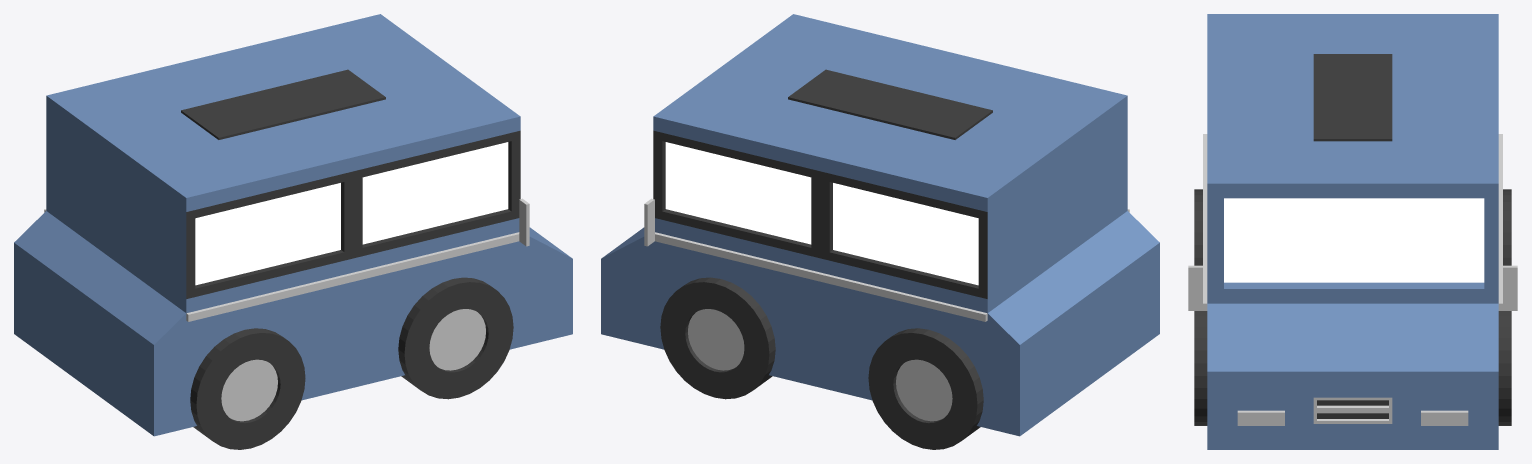
File: Car 2.4.fbx
The picture shows the model from 3 angles, left to right: view 1: azimuth 30°, elevation 25°; view 2: azimuth 150°, elevation 25°; view 3: azimuth 270°, elevation 25°; orthographic projection. The views are drawn at different scales.
Visible parts, largest first — view 1: Car_1.004; view 2: Car_1.004; view 3: Car_1.004.
Boxes of the visible parts, <box> form: Car_1.004: <box>14,14,572,449</box>; Car_1.004: <box>601,14,1159,449</box>; Car_1.004: <box>1188,14,1517,449</box>.
Size of the model in its own units: 384 by 228 by 249.
